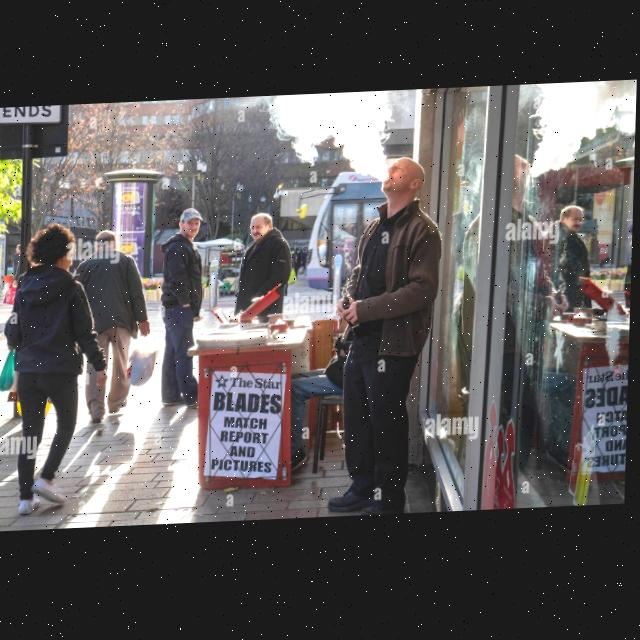vape: (345, 300, 352, 313)
